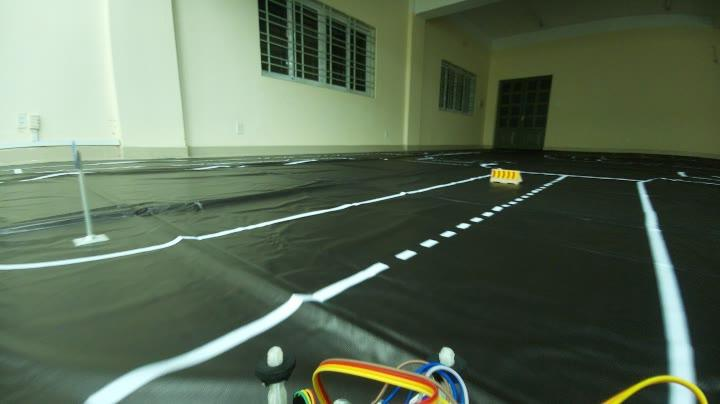roadblock: (485, 164, 523, 192)
